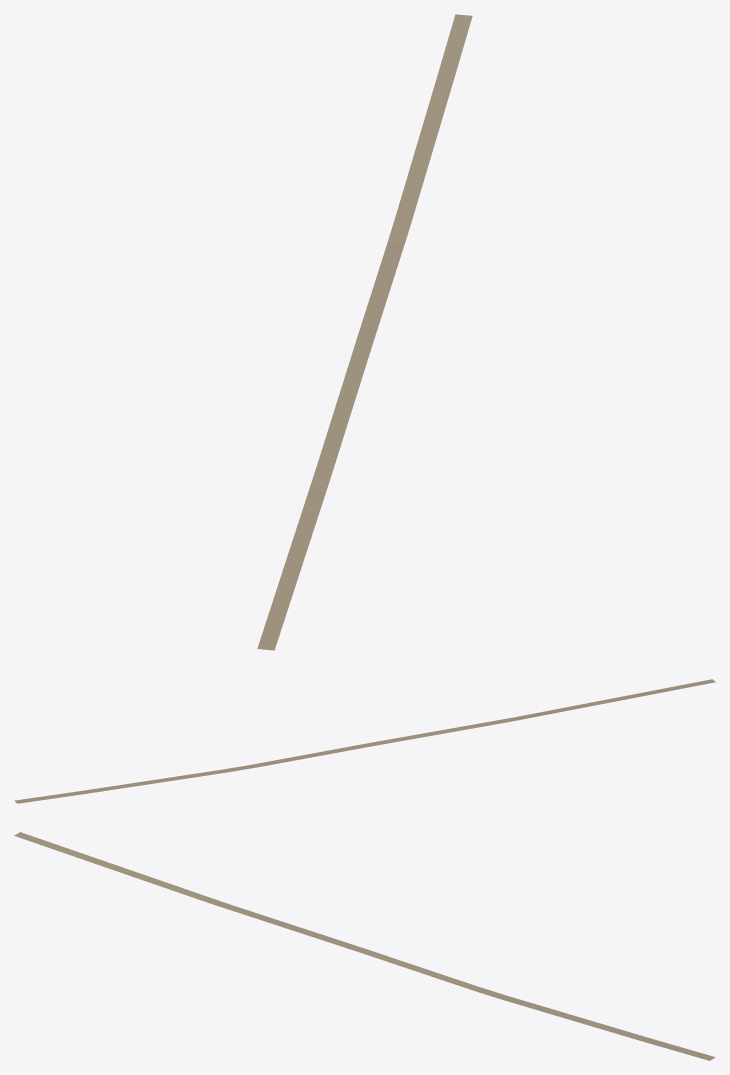
File: farm_-52_-48_track.glb
3 views of the same model, one above another, from view 1: azimuth 30°, elevation 25°; view 2: azimuth 150°, elevation 25°; view 3: azimuth 270°, elevation 25° (orthographic). The views are drawn at different scales.
Visible parts, largest first — view 1: geometry_0; view 2: geometry_0; view 3: geometry_0.
Boxes of the visible parts, x1,y1,x2,y2 form: geometry_0: (257, 14, 472, 650); geometry_0: (14, 679, 715, 803); geometry_0: (14, 832, 715, 1060).
Bounding box in the file's own units: 176 × 2.42 × 227.
